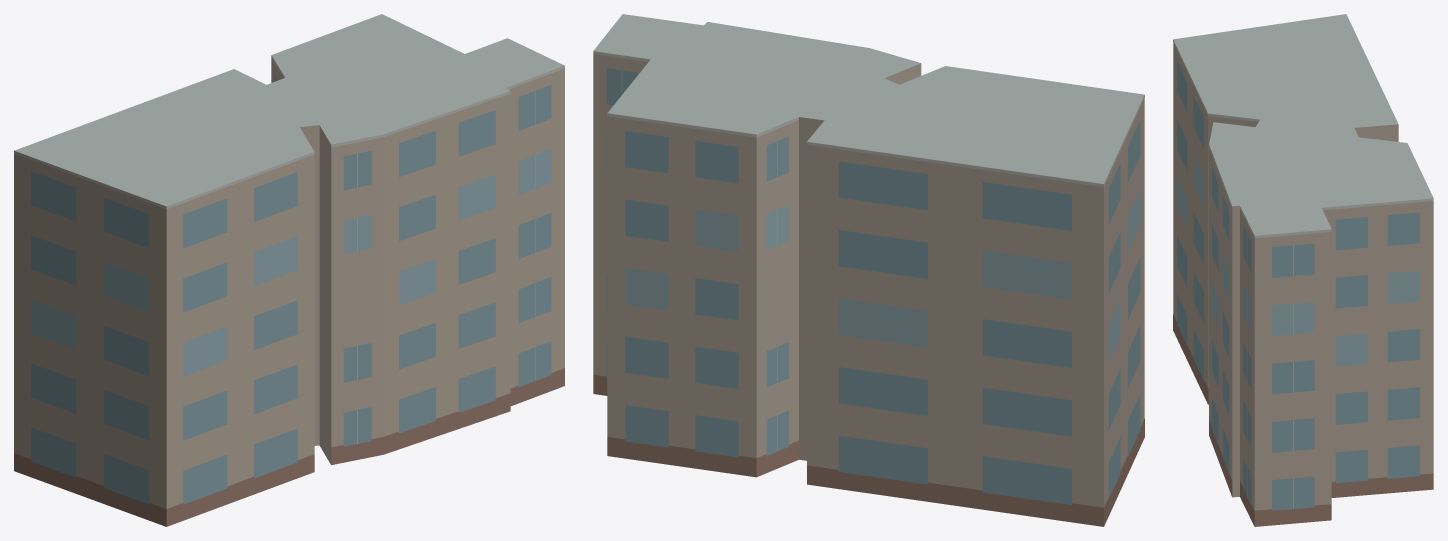
The model's file is survey-upis-32639597.glb.
3 renders of one model, left to right at view 1: azimuth 30°, elevation 25°; view 2: azimuth 150°, elevation 25°; view 3: azimuth 270°, elevation 25°, orthographic. The views are drawn at different scales.
Parts seen in each view (by area): view 1: survey-upis-32639597.tmp; view 2: survey-upis-32639597.tmp; view 3: survey-upis-32639597.tmp.
Boxes of the visible parts, <box> form: survey-upis-32639597.tmp: <box>14,14,564,526</box>; survey-upis-32639597.tmp: <box>593,14,1144,526</box>; survey-upis-32639597.tmp: <box>1173,14,1433,526</box>.
Size of the model in its own units: 44.37 by 27.15 by 22.04.
